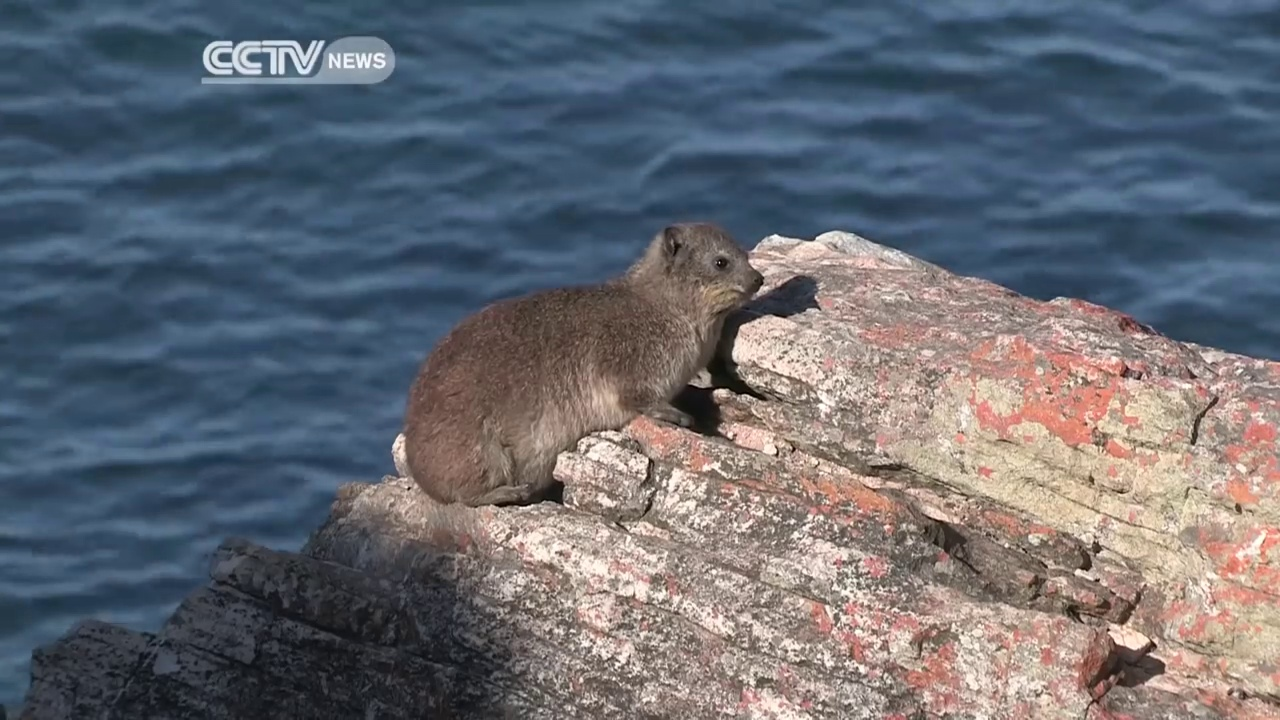Rock Hyrex: (395, 219, 766, 511)
